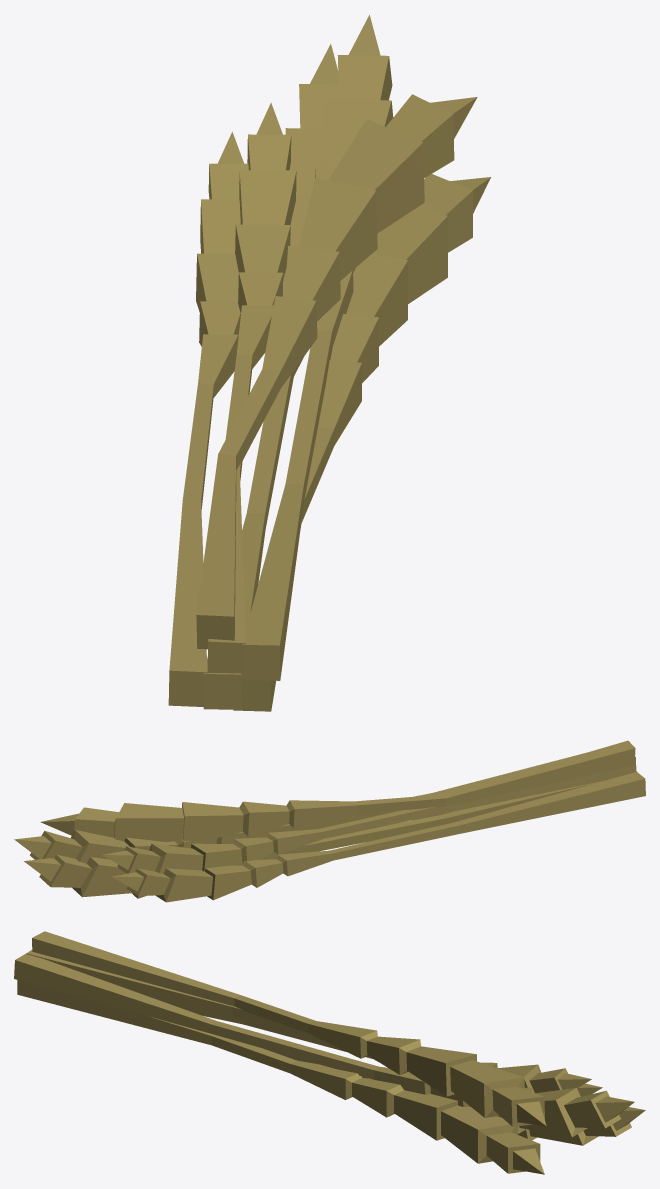
The model's file is Wheat_Crop.glb.
3 renders of one model, top to bottom at view 1: azimuth 30°, elevation 25°; view 2: azimuth 150°, elevation 25°; view 3: azimuth 270°, elevation 25°, orthographic. The views are drawn at different scales.
Visible parts, largest first — view 1: Wheat_Crop.obj; view 2: Wheat_Crop.obj; view 3: Wheat_Crop.obj.
Part boxes in pixels (<box>): Wheat_Crop.obj: <box>168,15,490,711</box>; Wheat_Crop.obj: <box>14,740,645,902</box>; Wheat_Crop.obj: <box>14,931,645,1174</box>.
Bounding box in the file's own units: 0.5906 × 0.1048 × 0.7584.
